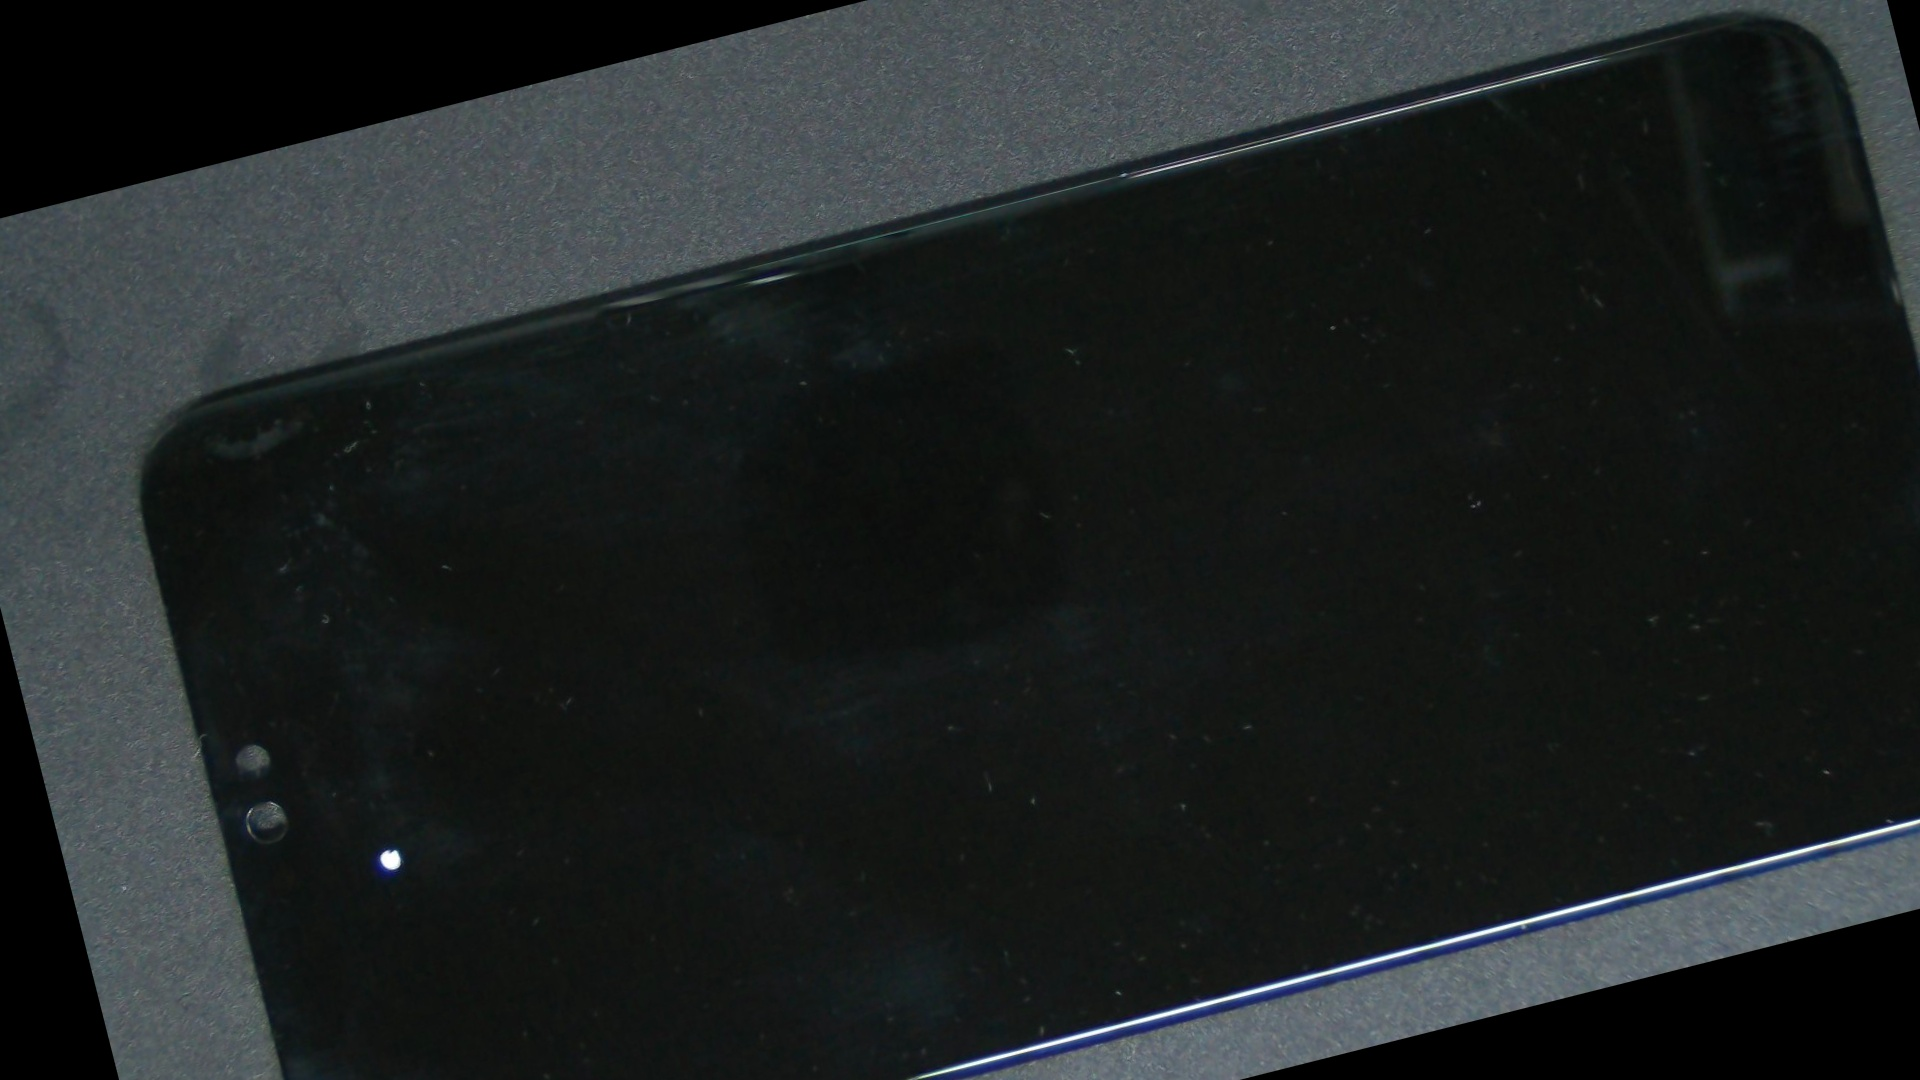oil: (148, 468, 625, 1080)
